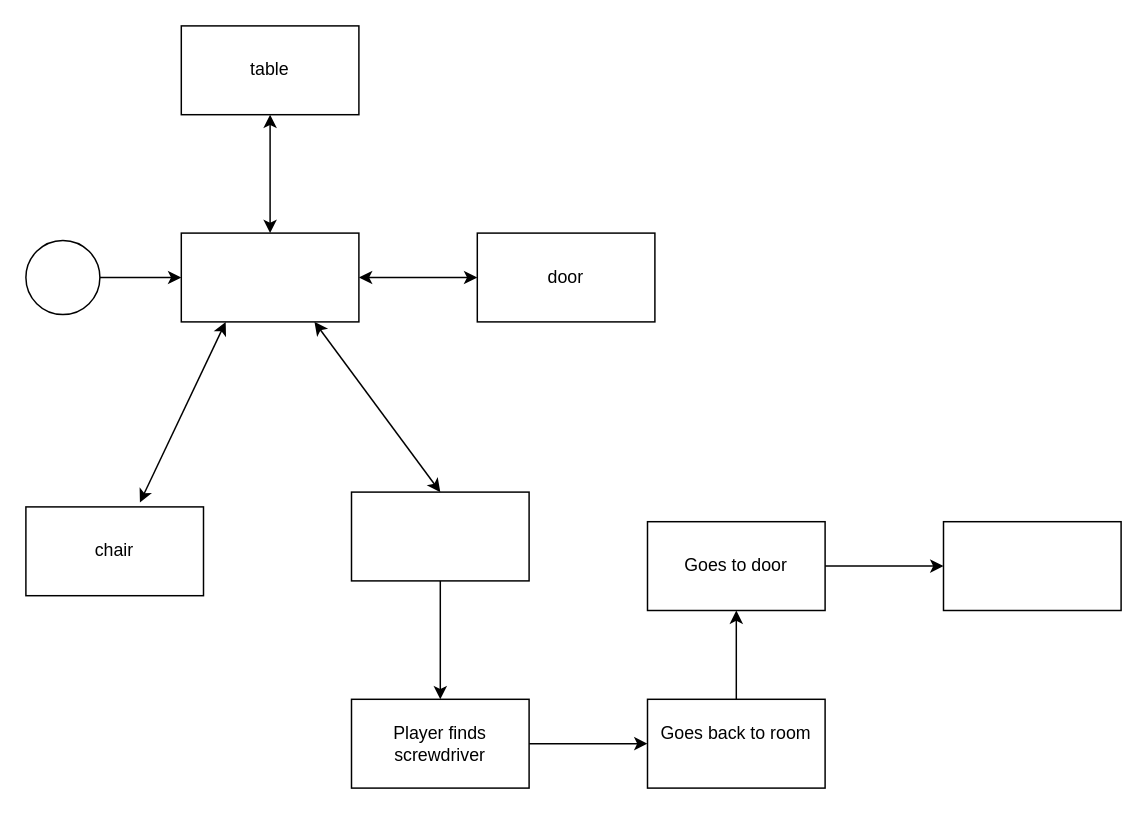
Some shapes in this 1147 by 814 pixel diagram are drawn without their labels. The shapes that lost their labels are listed below. From the top down, each one's centre as x and y in pixels, then its label:
[269,277]: Room
[439,536]: Pc
[1031,565]: Win
